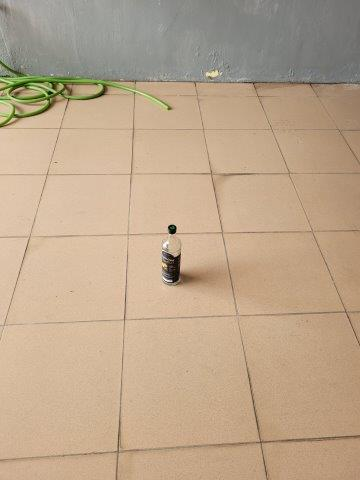botolkaca: (161, 226, 182, 286)
